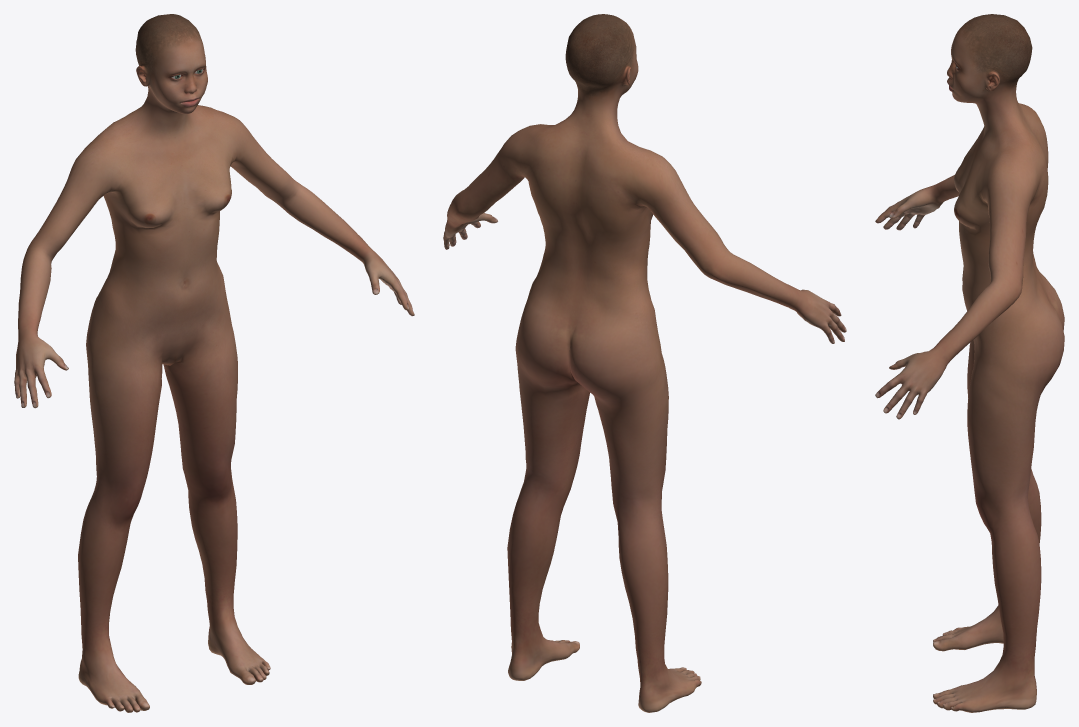
Rendered from female-donor.glb.
The picture shows the model from 3 angles, left to right: view 1: azimuth 30°, elevation 25°; view 2: azimuth 150°, elevation 25°; view 3: azimuth 270°, elevation 25°; orthographic projection.
Visible parts, largest first — view 1: female-native; view 2: female-native; view 3: female-native.
Part boxes in pixels (bbox=[...]): female-native: bbox=[14, 14, 414, 712]; female-native: bbox=[443, 14, 846, 712]; female-native: bbox=[875, 14, 1064, 712].
Size of the model in its own units: 1.1 by 1.77 by 0.4614.
Materials: 2 (2 with a texture image).
